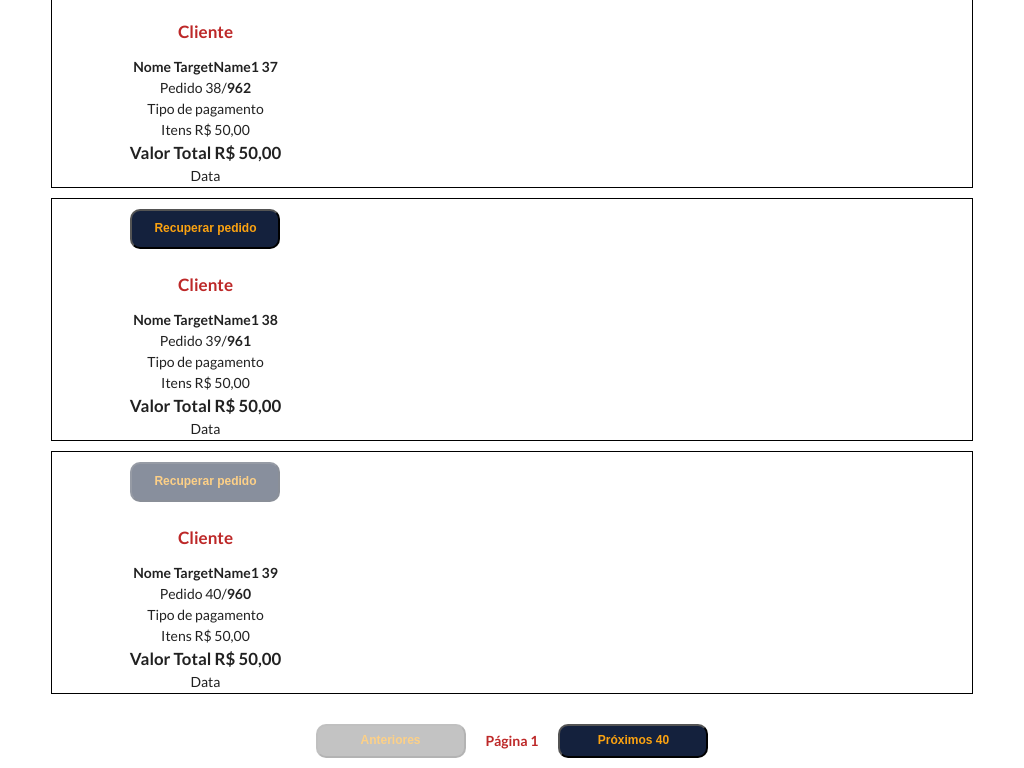
RequestList Component › 2. Botão de Próximos 40: verifica clique e nova requisição next
This screenshot has width=1024, height=768.
(page scrolled)
What coordinates should you click on to do the following:
click the button "Próximos 40"
I would click on:
 (633, 741)
Its box is [558, 724, 708, 758].
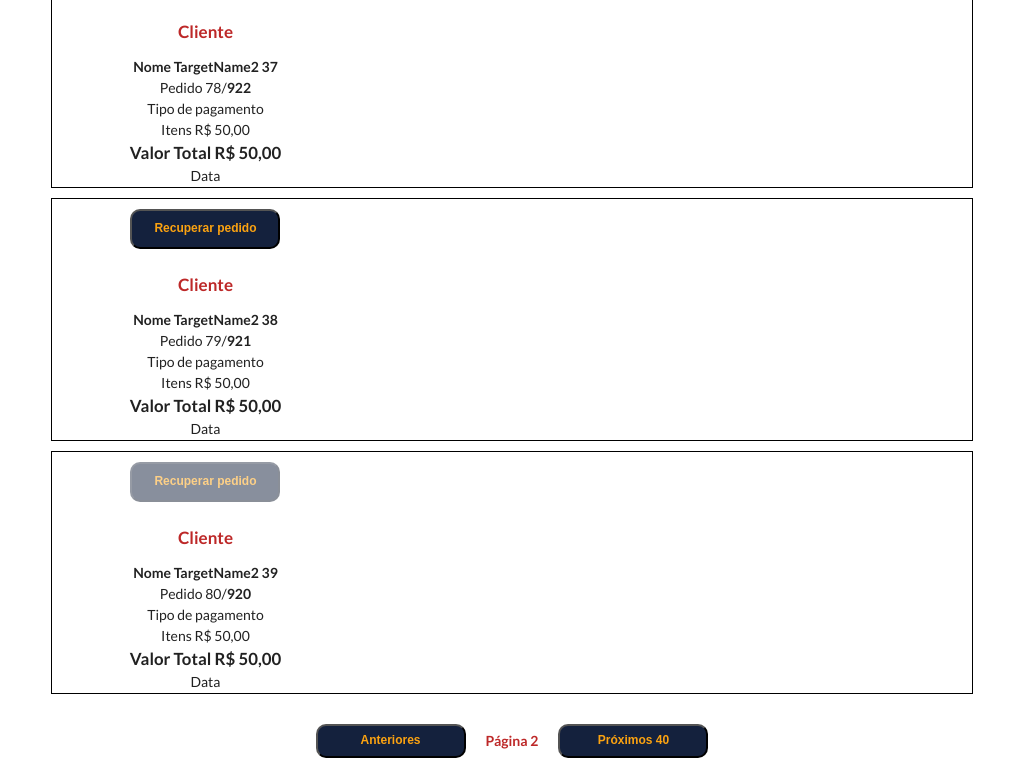
Now the text "Página 2" is shown, box [486, 731, 538, 751]
